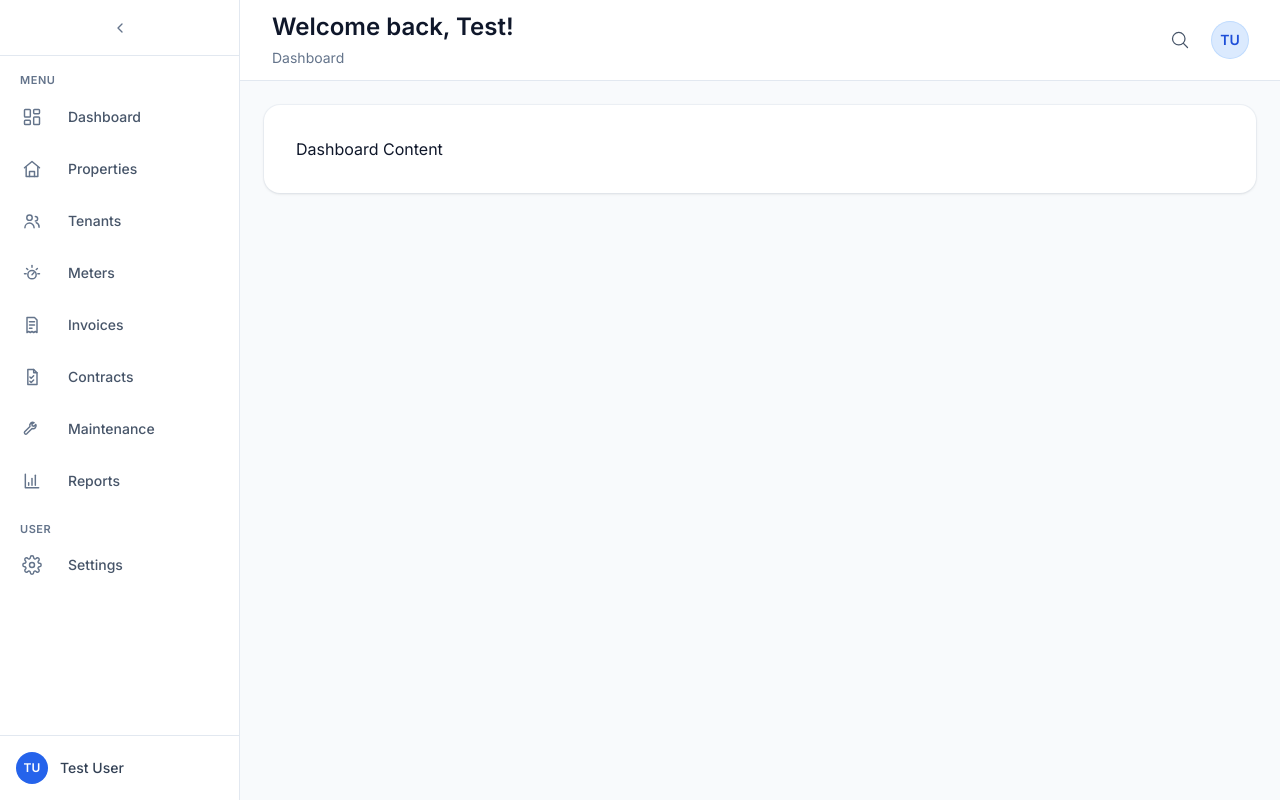
it: MainLayout › renders logout button in user menu dropdown when opened
Click the button "TU" at (1230,40), box [1212,22,1248,58]
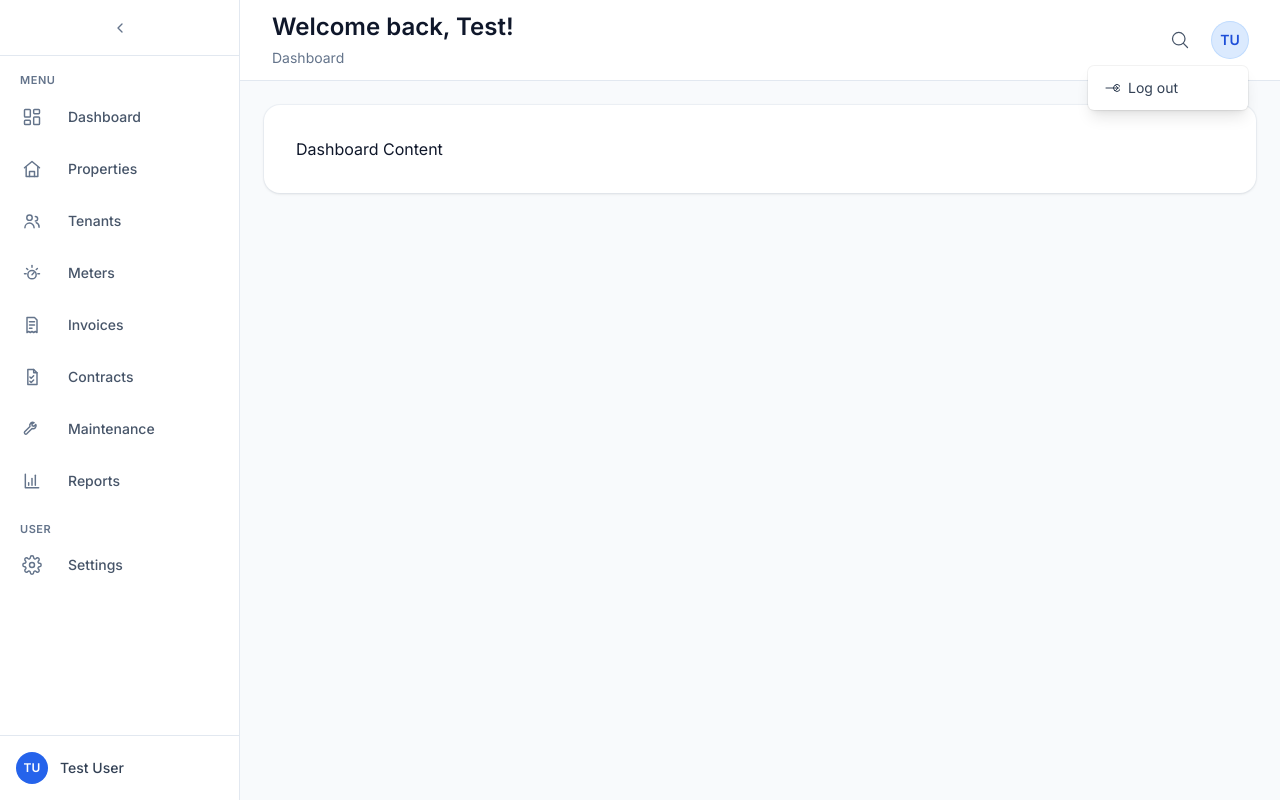
Check: the menu item "Log out" is shown, box [1088,70,1248,106]
